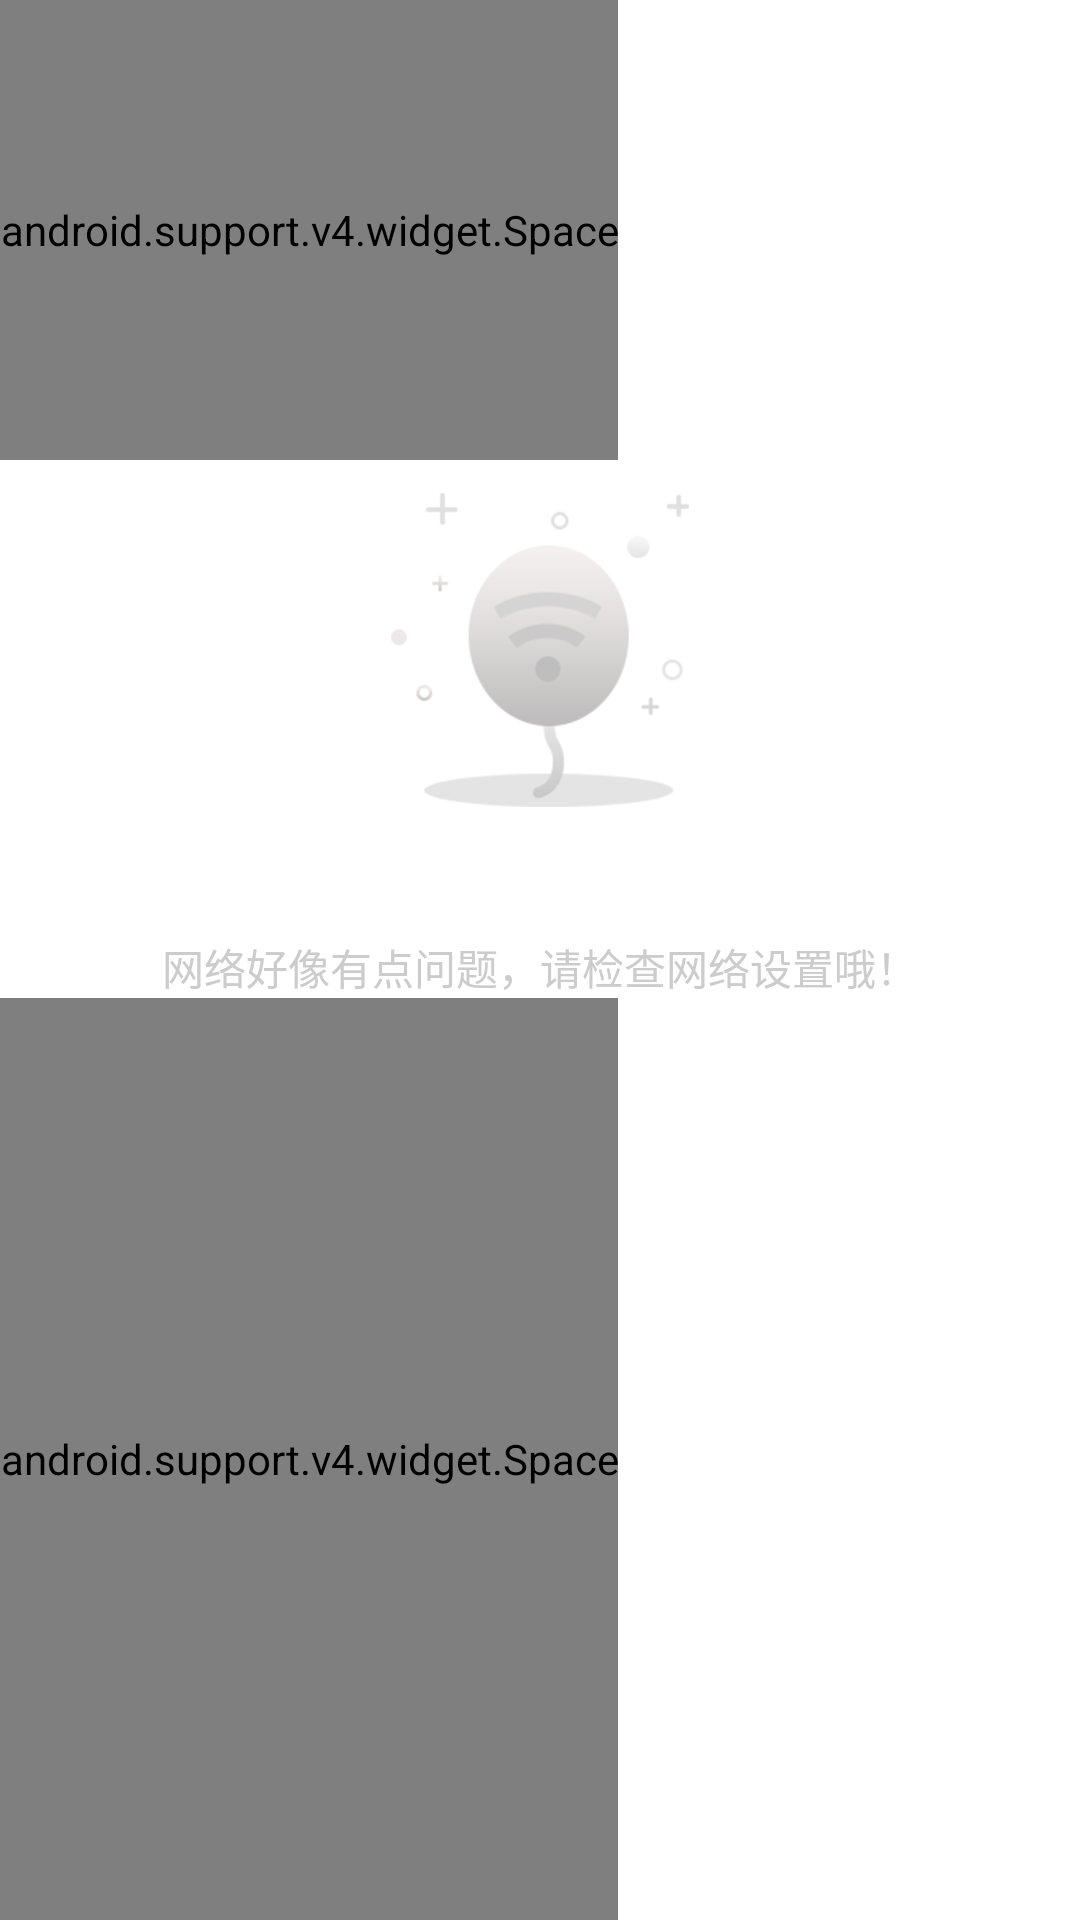

Point at icon controls on the screen. Image size 1080px x 1920px, points as [x,y].
business network error: [553,650]
